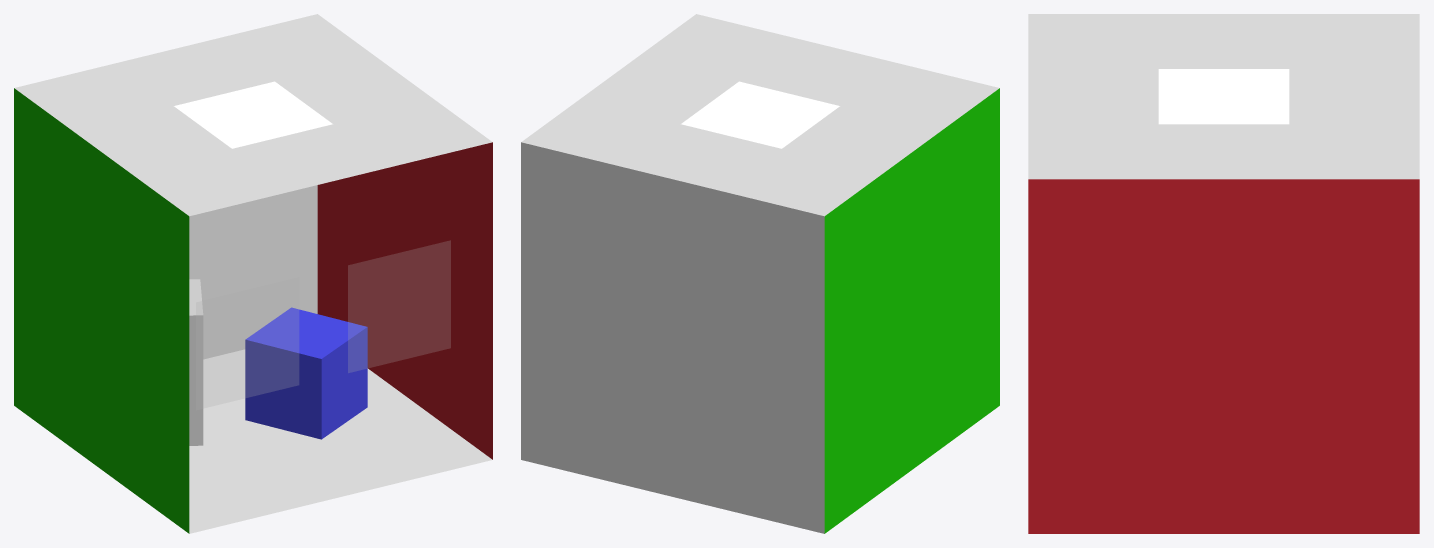
File: cornell_box_glass_pane.gltf
3 renders of one model, left to right at view 1: azimuth 30°, elevation 25°; view 2: azimuth 150°, elevation 25°; view 3: azimuth 270°, elevation 25°, orthographic. The views are drawn at different scales.
Visible parts, largest first — view 1: Cube.002, Plane.001, Cube, Cube.001; view 2: Cube.002; view 3: Cube.002.
Part boxes in pixels (x1=…): Cube.002: x1=14, y1=14, x2=492, y2=533; Plane.001: x1=196, y1=240, x2=450, y2=409; Cube: x1=245, y1=307, x2=367, y2=439; Cube.001: x1=189, y1=279, x2=203, y2=445; Cube.002: x1=521, y1=14, x2=999, y2=533; Cube.002: x1=1028, y1=14, x2=1419, y2=533.
Size of the model in its own units: 2 by 2 by 2.
